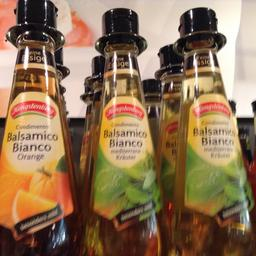vinegar: (79, 7, 167, 255), (172, 7, 254, 254), (1, 0, 74, 255)
